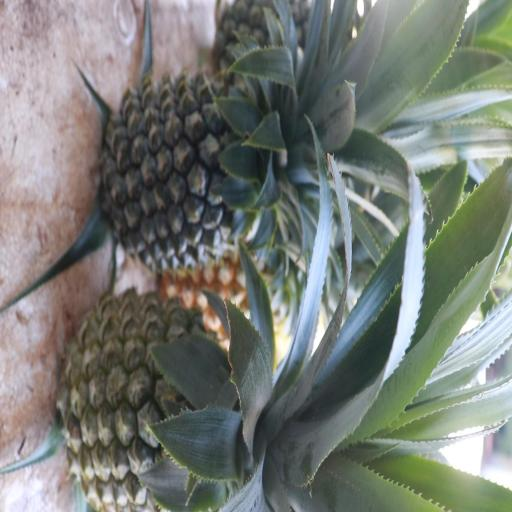------------------------------: (60, 293, 280, 506)
